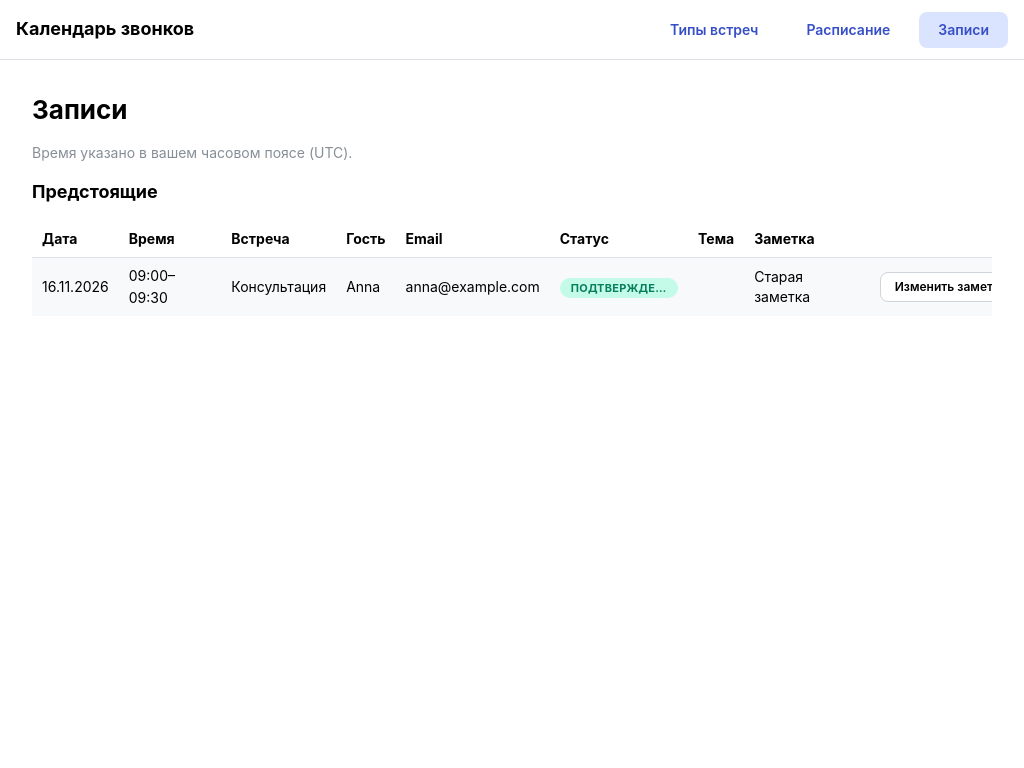
it: BookingsPage › existing note › changes the note in the modal that shows its full text
Click the button with aria-label "Изменить заметку: Anna, 16.11.2026 09:00". click: click(951, 287)
box: [880,272,1022,302]
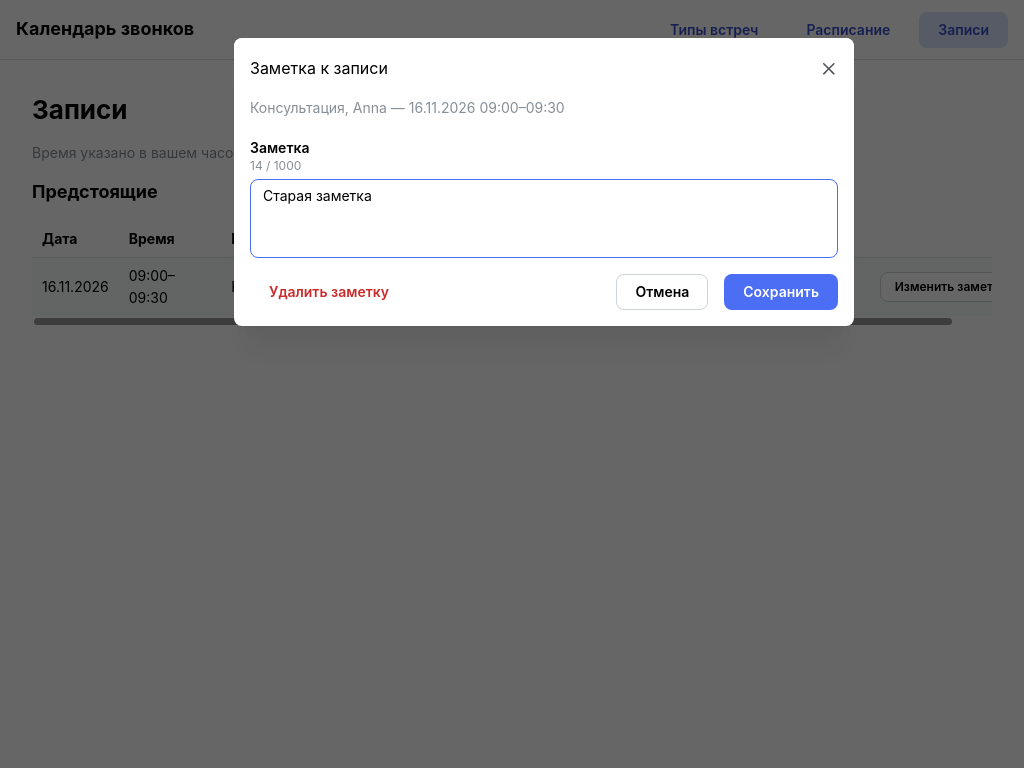
Check: the text box labelled "Заметка" holds "Старая заметка"
Replace the text in the text box labelled "Заметка" with "Новая заметка". click: (544, 218)
box: [250,179,838,258]
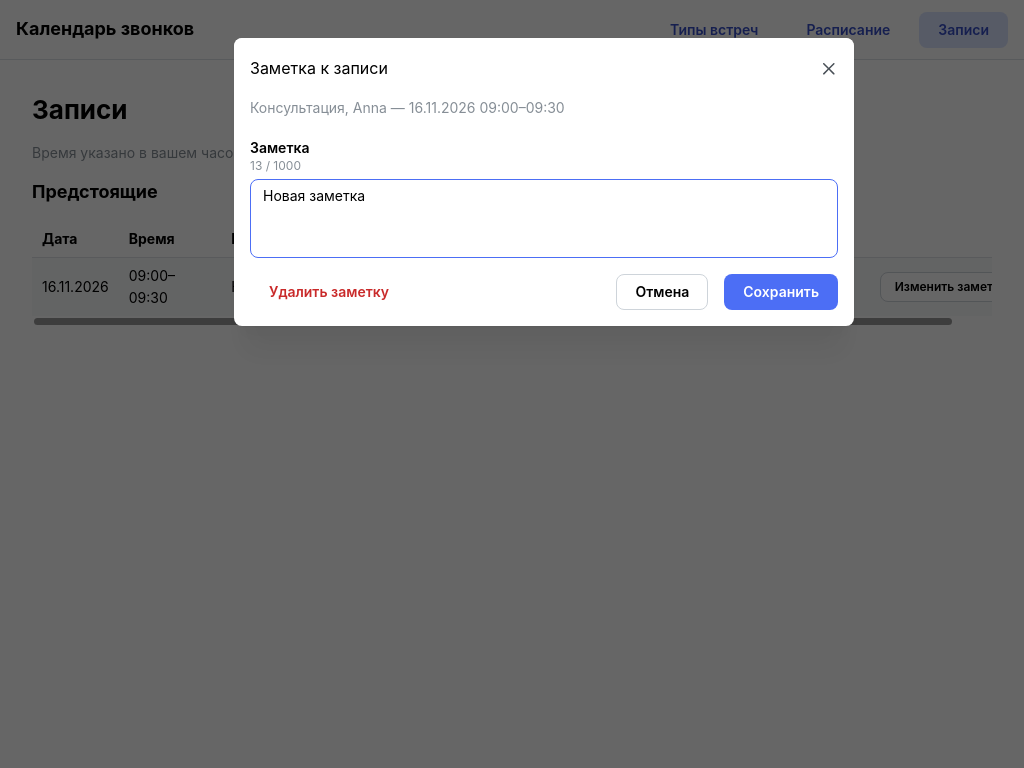
Click the button "Сохранить". click: click(781, 292)
box: [724,274,838,310]
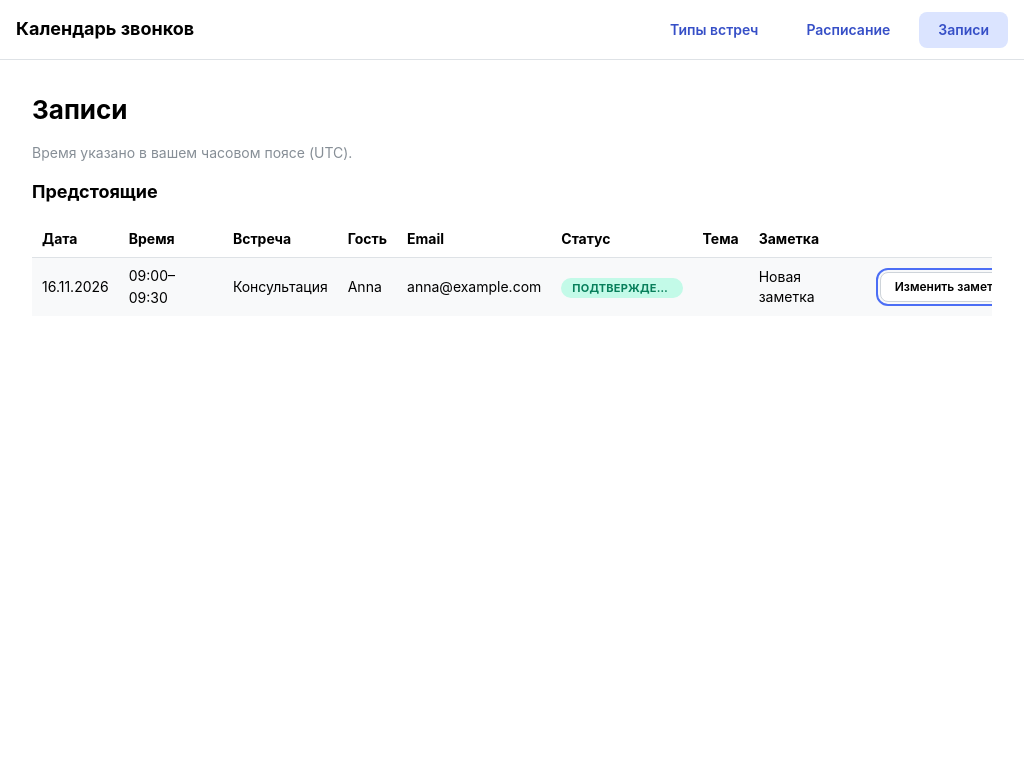
Check: the dialog is gone
Check: the cell "Новая заметка" is shown, box [749,258,870,316]
